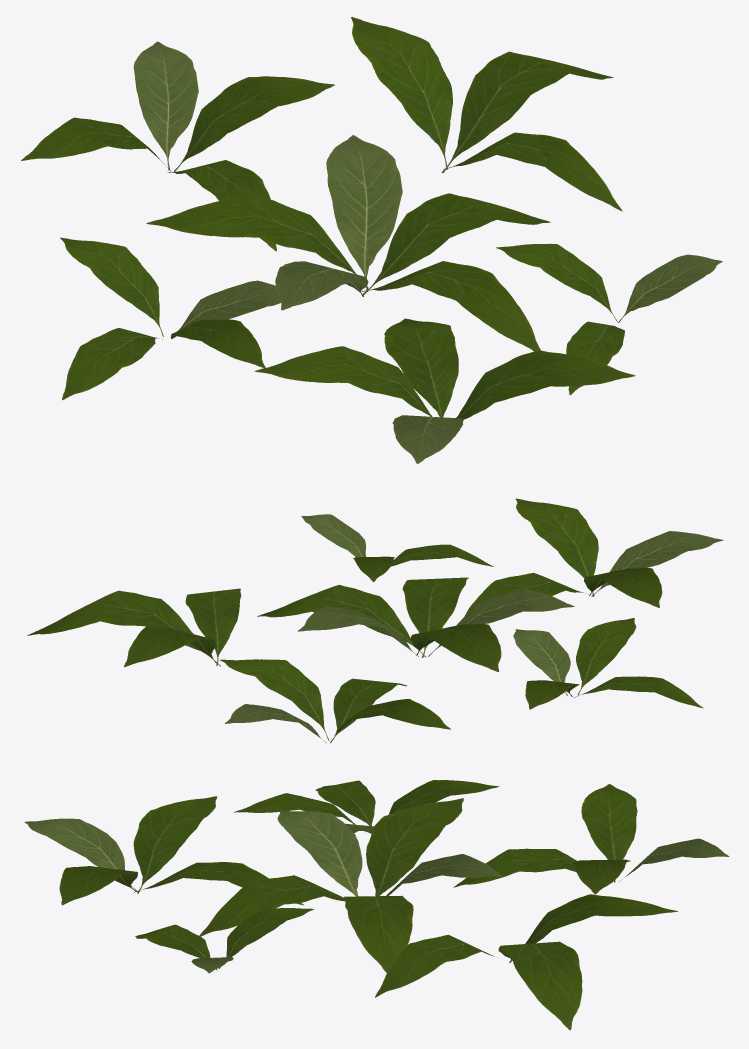
The model's file is SM_Plant_Small_01a.fbx.
3 views of the same model, one above another, from view 1: azimuth 30°, elevation 25°; view 2: azimuth 150°, elevation 25°; view 3: azimuth 270°, elevation 25° (orthographic). The views are drawn at different scales.
Parts seen in each view (by area): view 1: SM_Plant_Small_01a_LOD0; view 2: SM_Plant_Small_01a_LOD0; view 3: SM_Plant_Small_01a_LOD0.
Part boxes in pixels (x1,y1,x2,y2): SM_Plant_Small_01a_LOD0: (21, 17, 722, 463); SM_Plant_Small_01a_LOD0: (27, 498, 723, 743); SM_Plant_Small_01a_LOD0: (24, 780, 729, 1030).
Bounding box in the file's own units: 119 × 133 × 17.57.
